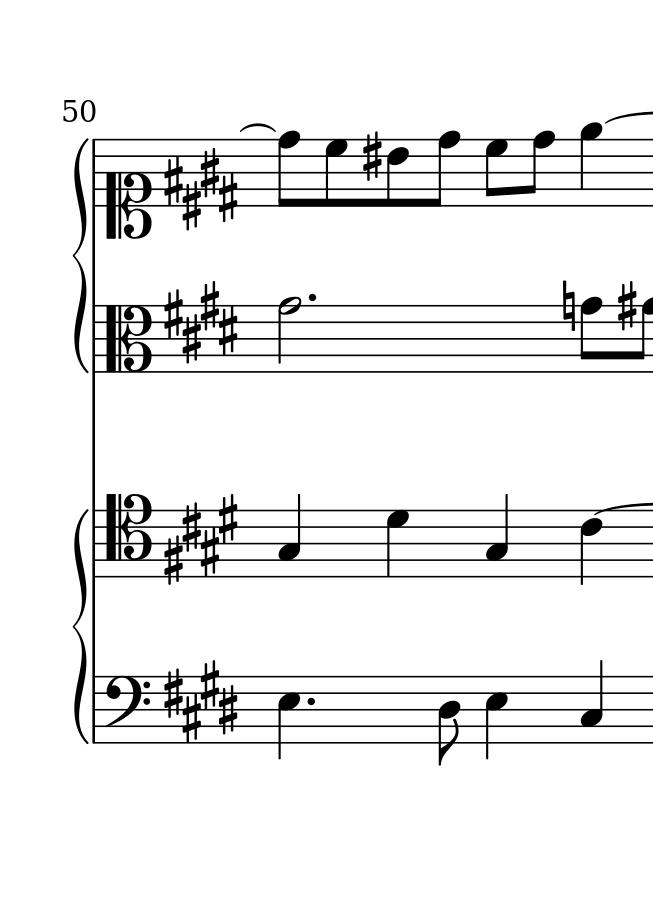0: (79, 97, 96, 124)
2_7: (276, 296, 299, 373)
4_3: (276, 493, 302, 577), (580, 660, 605, 744), (484, 495, 509, 578)
4_5: (275, 676, 303, 760), (484, 674, 508, 763)
4_6: (579, 508, 603, 587)
4_7: (385, 509, 410, 578)
4_9: (579, 120, 602, 210)
5: (62, 98, 79, 124)
8_4: (437, 675, 461, 765)
8_6: (386, 137, 410, 208)
8_7: (323, 138, 348, 208), (484, 138, 509, 208)
8_8: (427, 128, 460, 209), (522, 128, 554, 208), (579, 296, 603, 376), (277, 130, 299, 209), (634, 301, 653, 375)
Brace: (71, 507, 91, 750), (70, 135, 90, 375)
Cclef: (102, 303, 152, 374)
E_S: (161, 492, 242, 583), (162, 279, 241, 363), (161, 660, 237, 742), (162, 147, 239, 226)
Fclef: (103, 673, 150, 744)
Natural: (561, 280, 577, 334)
Sharp: (361, 131, 383, 182), (617, 280, 637, 333)
Single_barline: (88, 510, 103, 577), (88, 304, 102, 373), (88, 139, 102, 207), (89, 676, 102, 742)
Slur: (240, 122, 277, 133)
Soprano_Cclef: (104, 138, 153, 242)
Tensor_Cclef: (105, 494, 152, 577)
dot: (304, 694, 317, 708), (305, 291, 318, 303)
